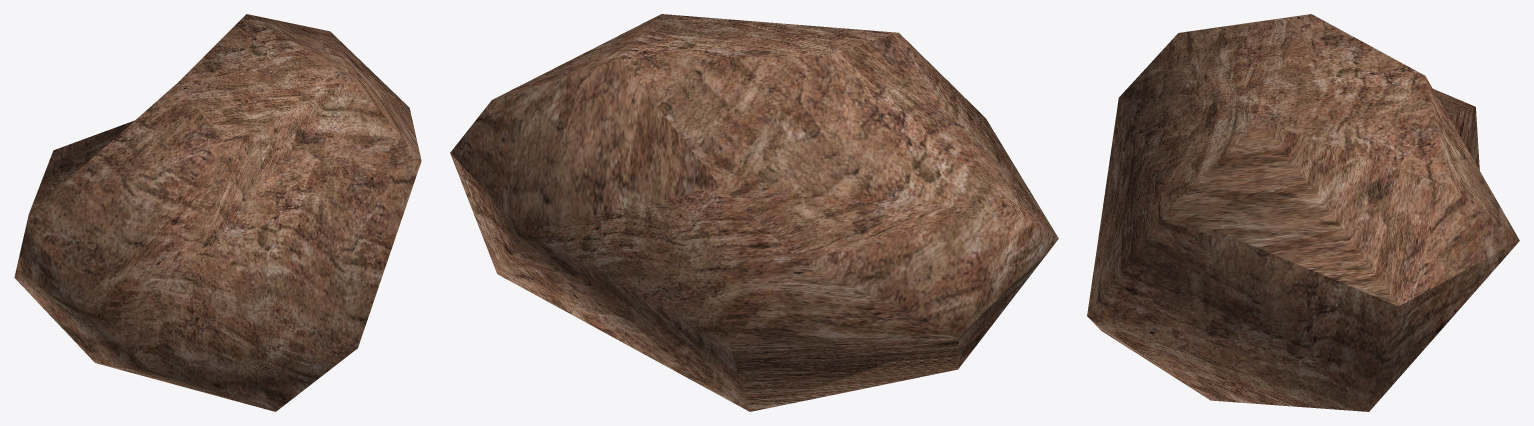
Rendered from rock_dath_desertboulder_a2_l3.fbx.
3 renders of one model, left to right at view 1: azimuth 30°, elevation 25°; view 2: azimuth 150°, elevation 25°; view 3: azimuth 270°, elevation 25°, orthographic. The views are drawn at different scales.
Parts seen in each view (by area): view 1: mesh_node; view 2: mesh_node; view 3: mesh_node.
Boxes of the visible parts, box(x1,y1,x2,y2) form: mesh_node: box(14, 14, 421, 411); mesh_node: box(450, 14, 1058, 411); mesh_node: box(1087, 14, 1519, 411).
Bounding box in the file's own units: 1.8 × 1.14 × 1.36.
